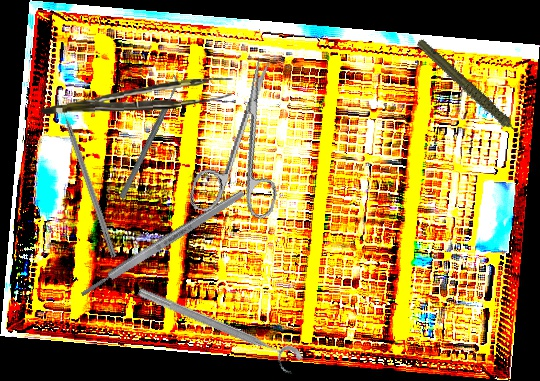Chopper: (82, 73, 215, 201)
Fixation Ring: (131, 282, 306, 378)
Handpiece: (414, 21, 527, 164)
Hook Surgical: (54, 93, 119, 259)
Iris Scissors: (187, 50, 308, 228)
Scalpel Handle: (78, 188, 247, 299)
Tissue Forceps: (40, 77, 236, 115)
